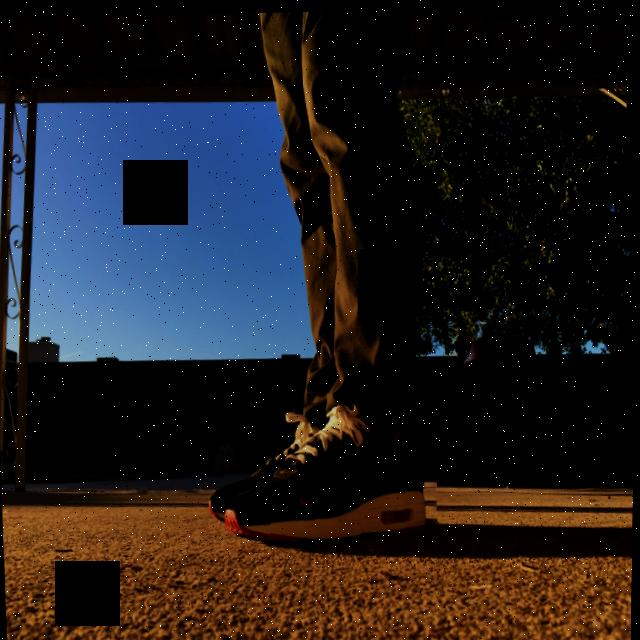shoe: (199, 381, 444, 559)
